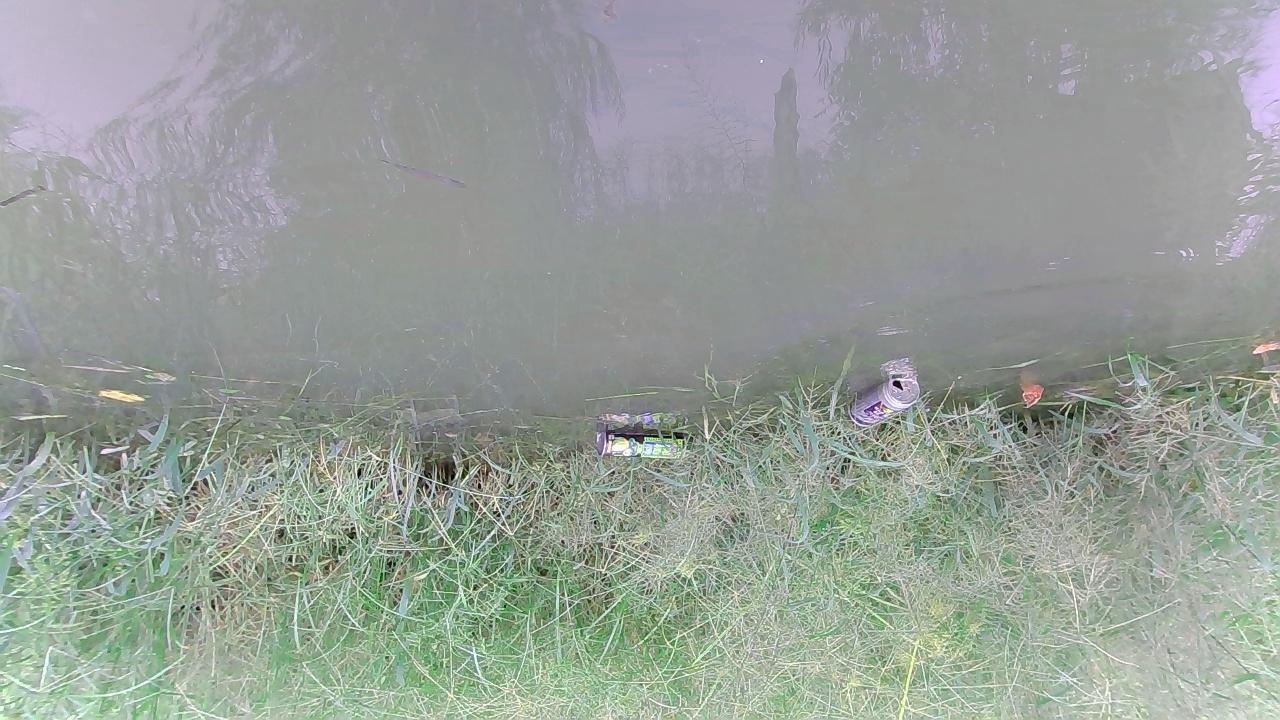Metal: (594, 423, 693, 465), (848, 376, 922, 428)
